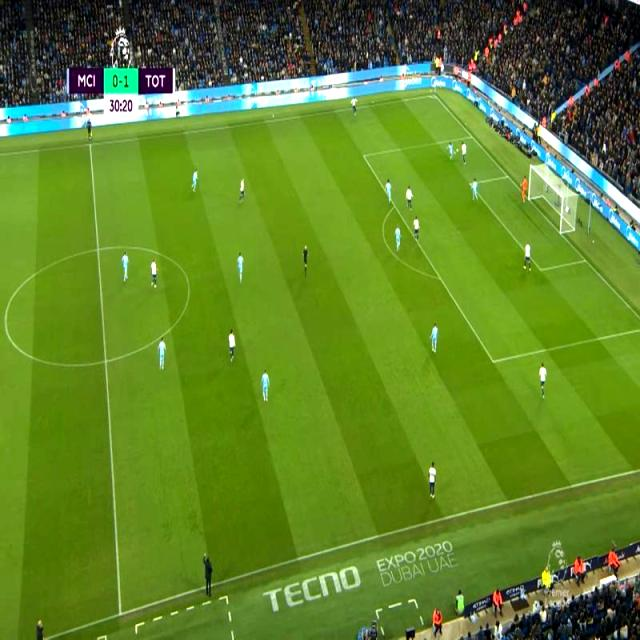bigarea_bottom_inner: (487, 355, 500, 368)
bigarea_top_inner: (358, 150, 369, 160)
bigarea_top_outter: (467, 127, 477, 146)
bottom_arc_area_intersection: (436, 272, 449, 284)
corner: (428, 89, 442, 101)
halfcircle_bottom: (99, 354, 112, 367)
halfcircle_top: (92, 242, 105, 255)
midline_bottom_intersection: (113, 607, 128, 623)
midline_top_intersection: (86, 138, 95, 152)
smallarea_bottom_inner: (535, 262, 547, 274)
smallarea_bottom_outter: (578, 255, 592, 268)
smallarea_top_inner: (466, 176, 475, 194)
smallarea_top_outter: (505, 170, 512, 183)
top_arc_area_intersection: (388, 201, 399, 211)
